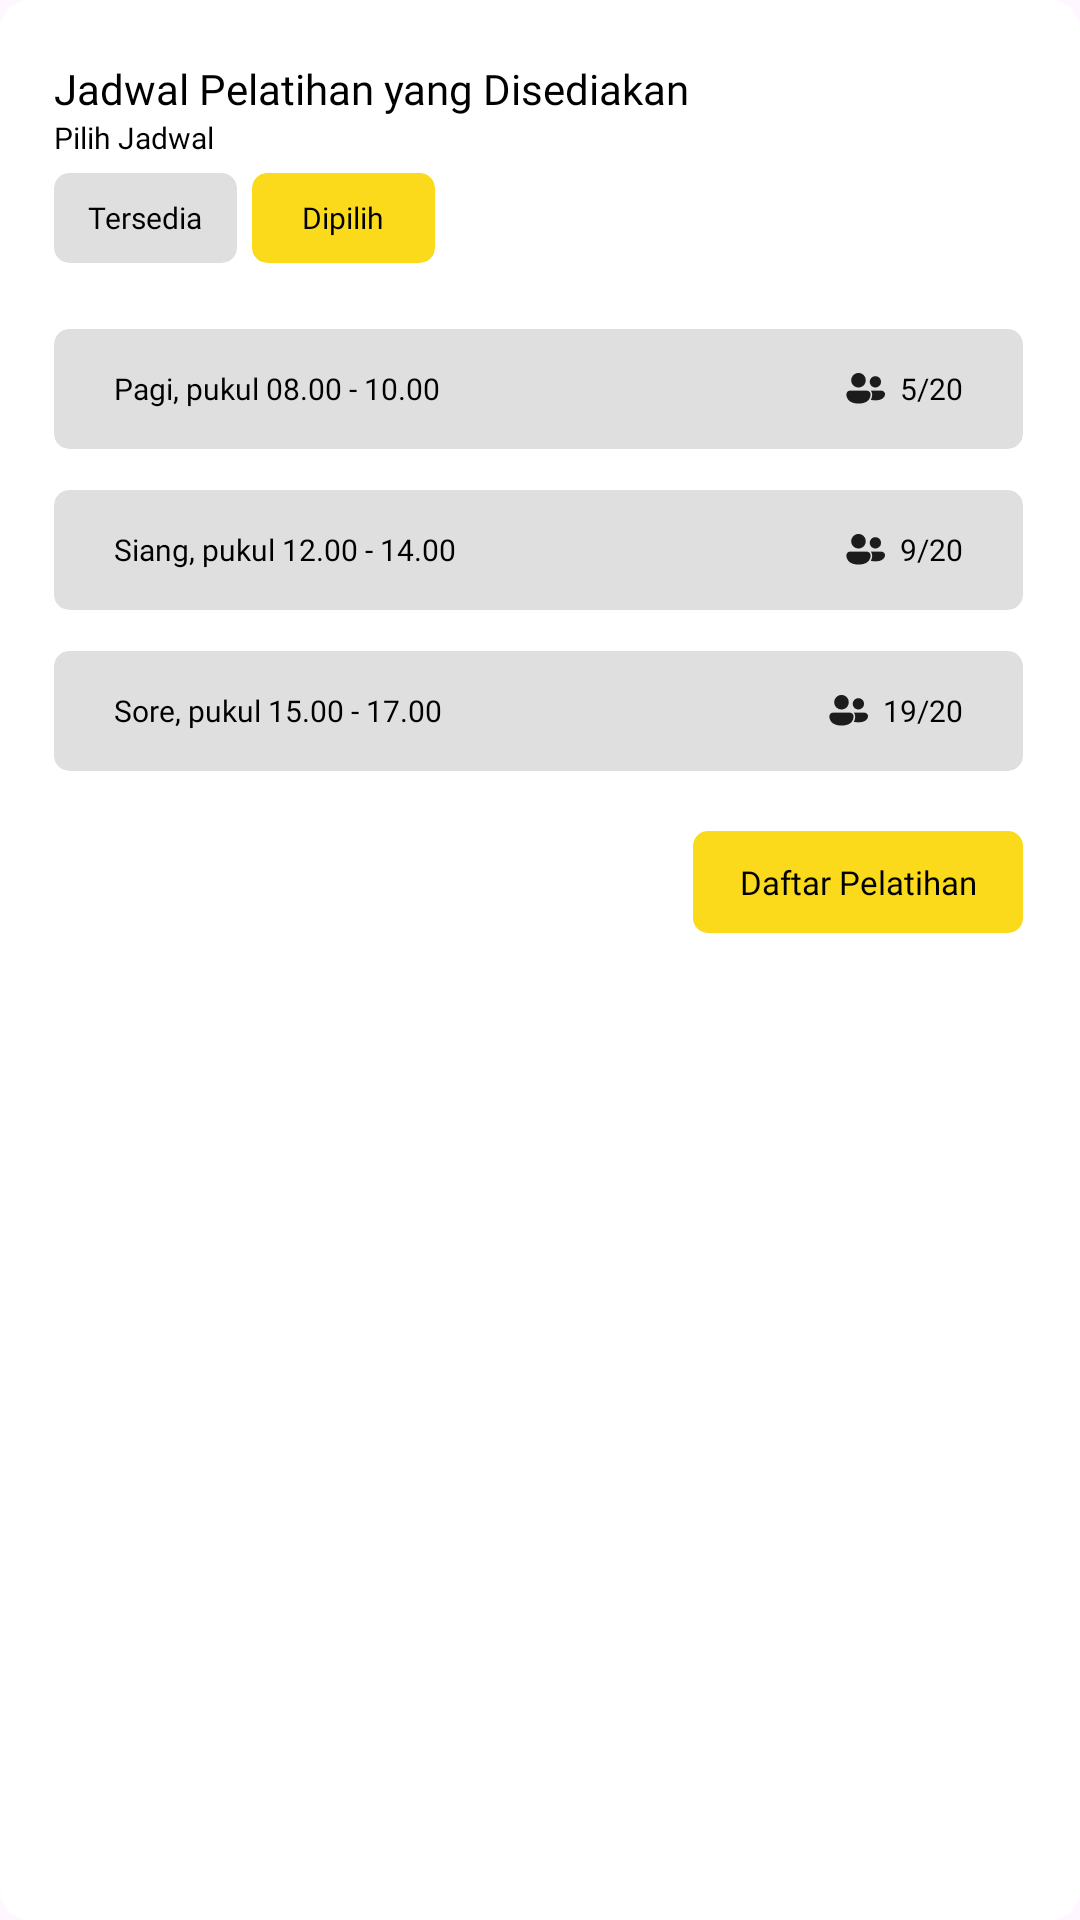

Point at icon controls on the screen. Image size 1080*1920, points as [x,y].
user pelatihan: [865,388], [865,549], [848,710]
